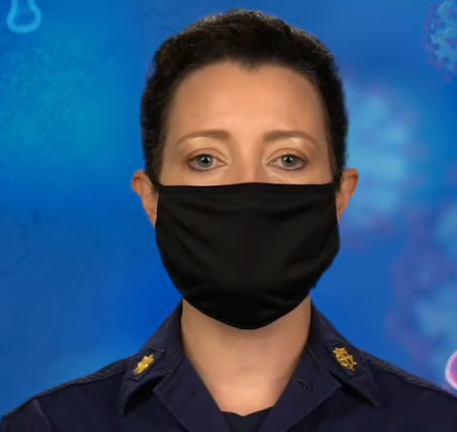with_mask: (141, 55, 353, 329)
